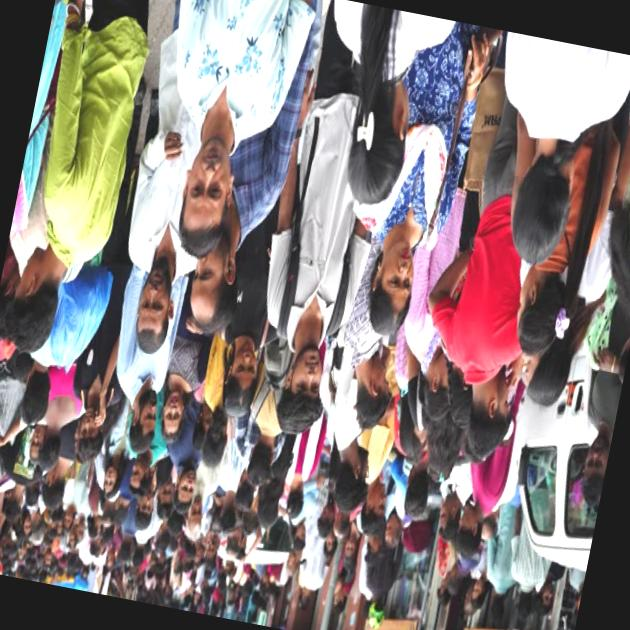there is a person: (474, 33, 611, 258), (0, 134, 114, 349), (148, 60, 264, 253), (426, 272, 544, 449), (340, 175, 438, 323), (176, 284, 272, 430), (251, 294, 342, 446), (260, 294, 344, 448), (104, 242, 194, 351), (436, 454, 513, 568), (332, 337, 408, 435), (61, 365, 120, 462), (114, 359, 170, 444), (158, 436, 212, 512)
